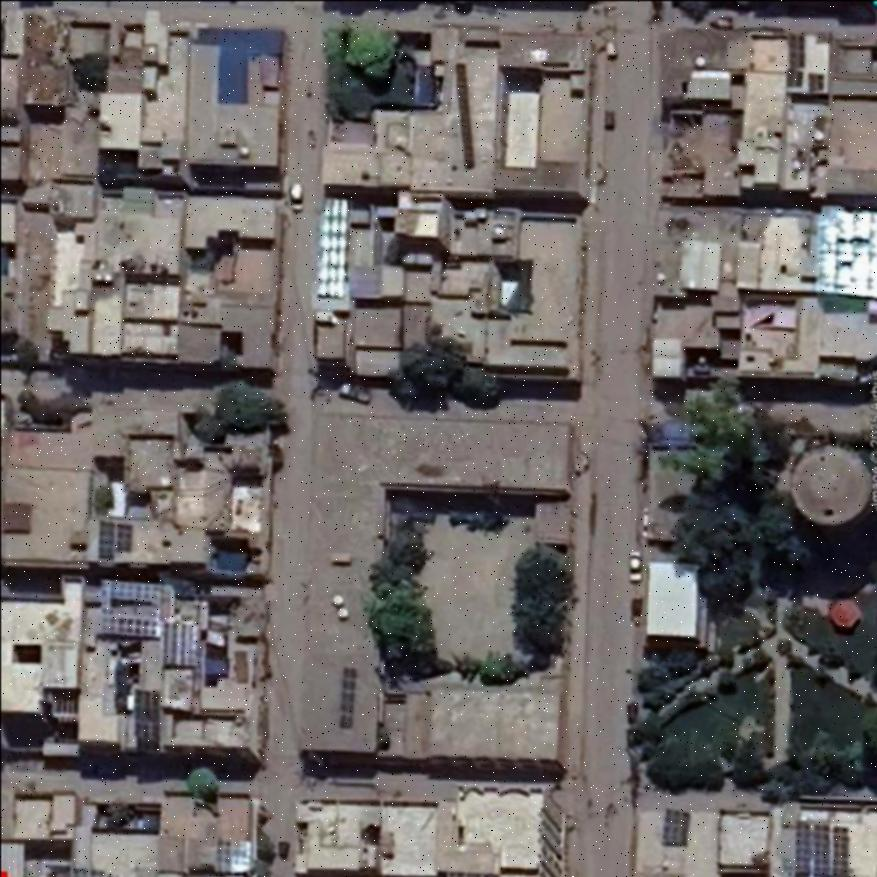Solarpanel: (99, 580, 159, 636), (795, 819, 849, 877), (160, 621, 195, 664), (133, 689, 158, 737), (215, 839, 251, 871), (660, 807, 688, 844), (340, 666, 355, 729), (789, 32, 804, 66), (97, 522, 111, 557), (117, 523, 129, 550), (806, 75, 821, 88), (788, 68, 799, 85)
